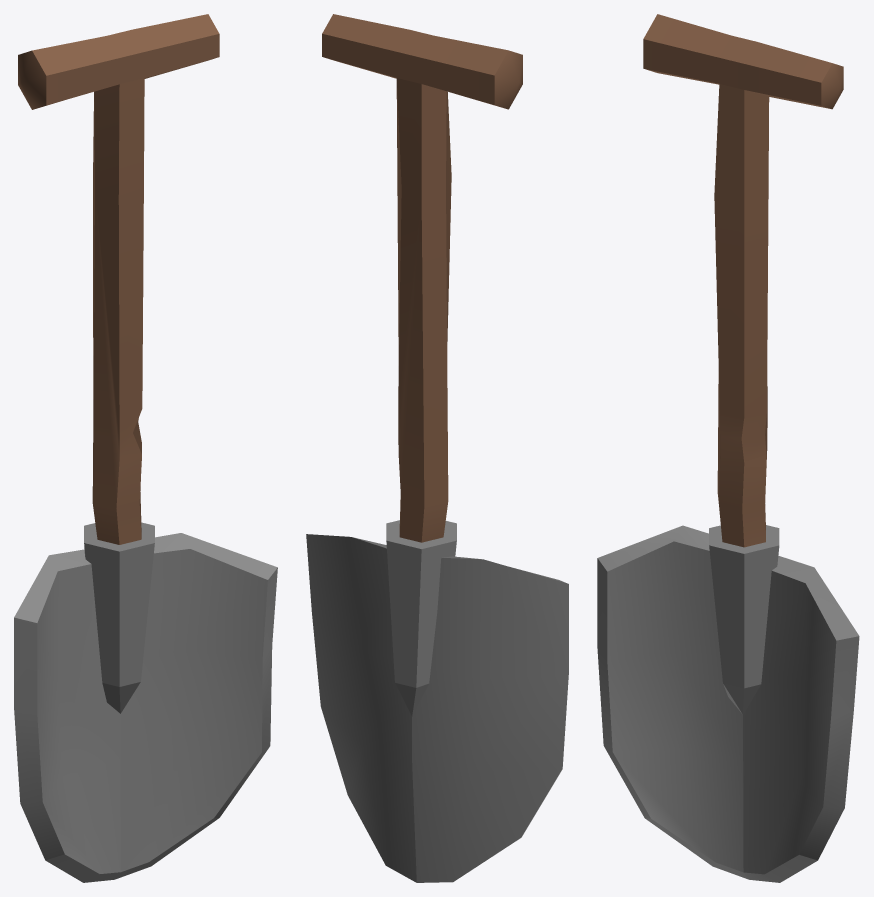
Rendered from Shovel.fbx.
3 views of the same model, side by side, from view 1: azimuth 30°, elevation 25°; view 2: azimuth 150°, elevation 25°; view 3: azimuth 330°, elevation 25° (orthographic).
Visible parts, largest first — view 1: Shovel; view 2: Shovel; view 3: Shovel.
Part boxes in pixels (bbox=[...]): Shovel: bbox=[14, 14, 277, 882]; Shovel: bbox=[306, 14, 568, 882]; Shovel: bbox=[597, 14, 859, 882].
Size of the model in its own units: 7.99 by 24.71 by 2.58.
